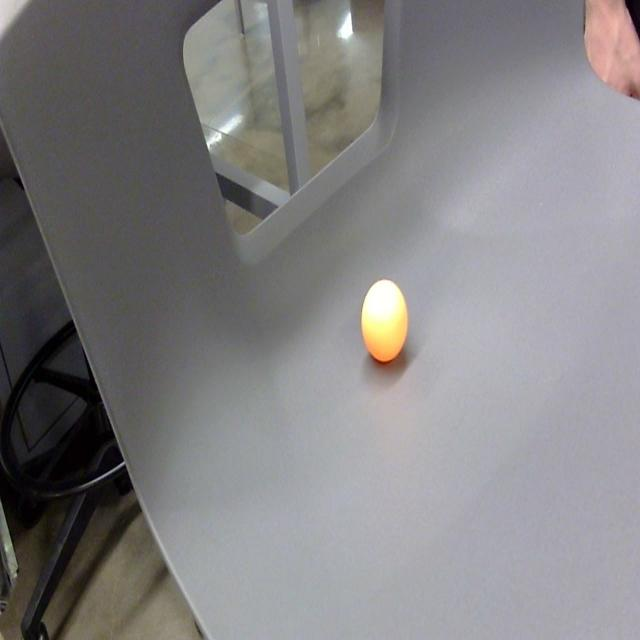ball: (358, 274, 411, 366)
